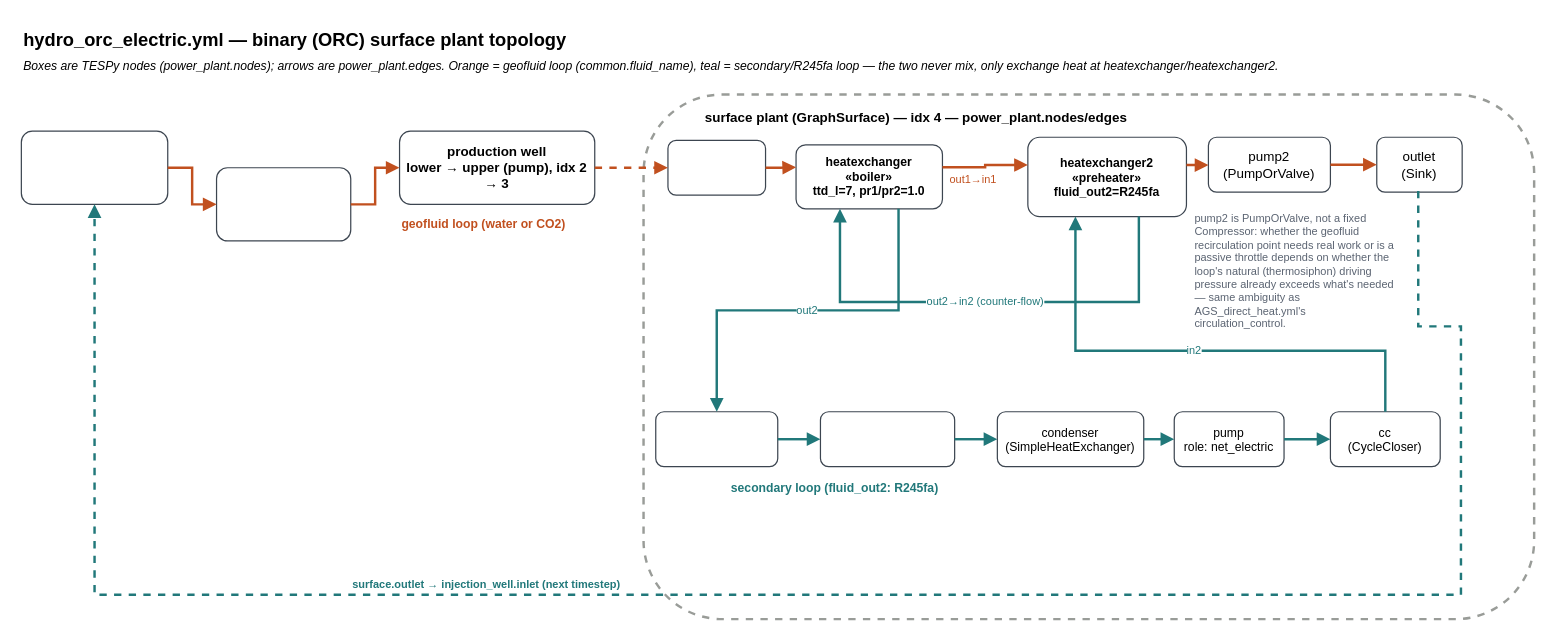
Some shapes in this 1557 by 641 pixel diagram are drawn without their labels. Each missing label, with the centre of its shape:
cooler (SimpleHeatExchanger): [887,439]
injection well component_idx 0: [94,167]
inlet (Source): [716,167]
reservoir idx 1: [283,204]
turbine role: net_electric: [716,439]
